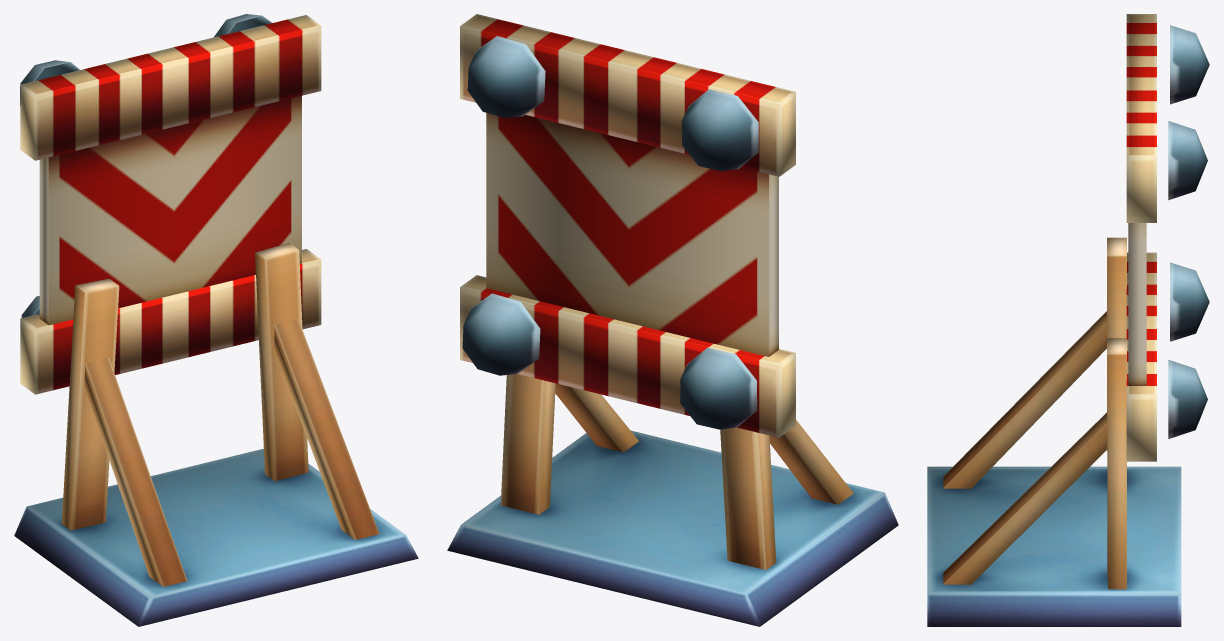
File: blocker_roll.glb
3 renders of one model, left to right at view 1: azimuth 30°, elevation 25°; view 2: azimuth 150°, elevation 25°; view 3: azimuth 270°, elevation 25°, orthographic. The views are drawn at different scales.
Visible parts, largest first — view 1: Object_2; view 2: Object_2; view 3: Object_2.
Boxes of the visible parts, <box> form: Object_2: <box>14,14,418,626</box>; Object_2: <box>447,14,898,626</box>; Object_2: <box>927,14,1209,626</box>.
Bounding box in the file's own units: 18.98 × 29.53 × 15.91.
Materials: 1 (1 with a texture image).
